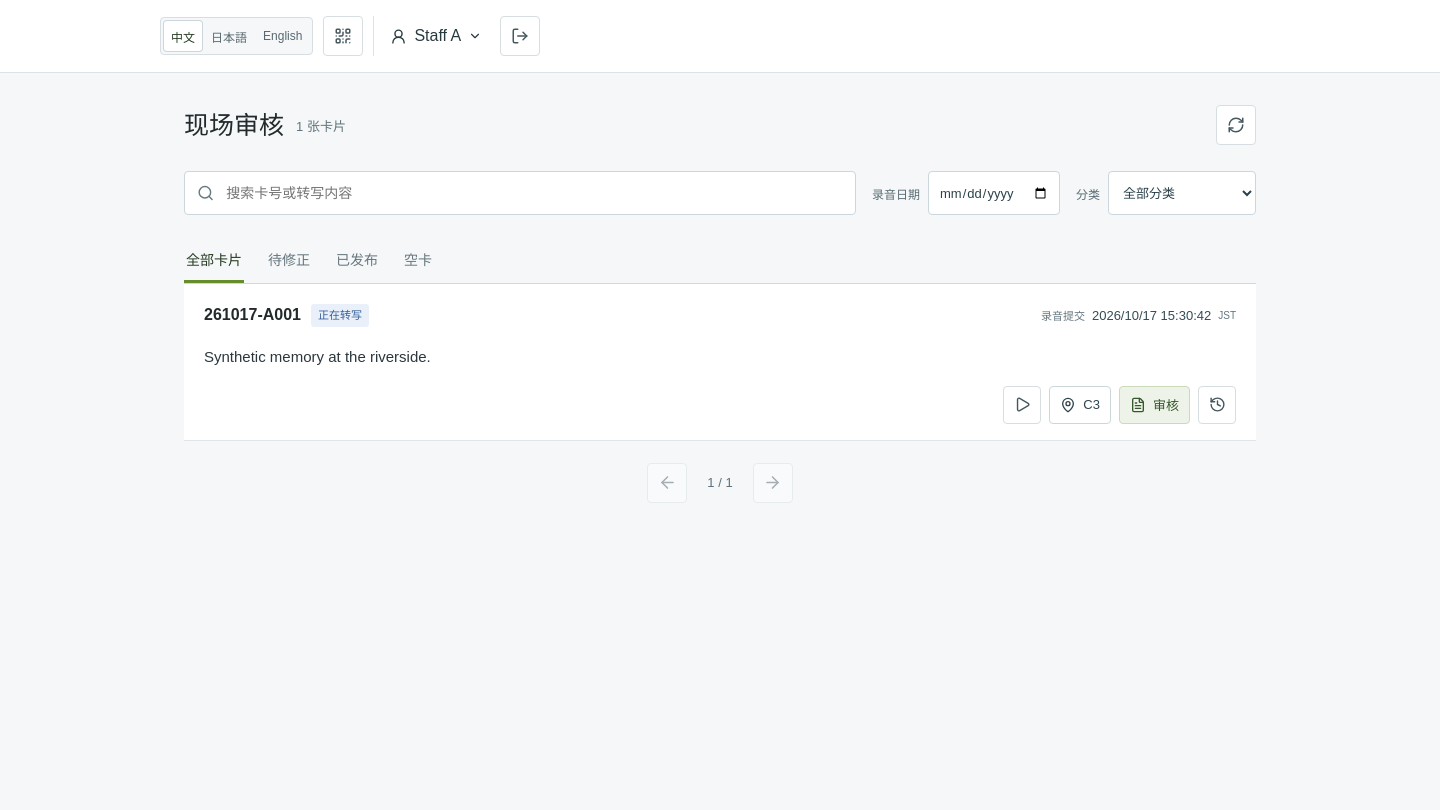
staff website › does not approve or requeue the retained old text while AI is processing
Click the button with aria-label "审核 261017-A001" at x=1154, y=404, box [1119, 386, 1190, 424]
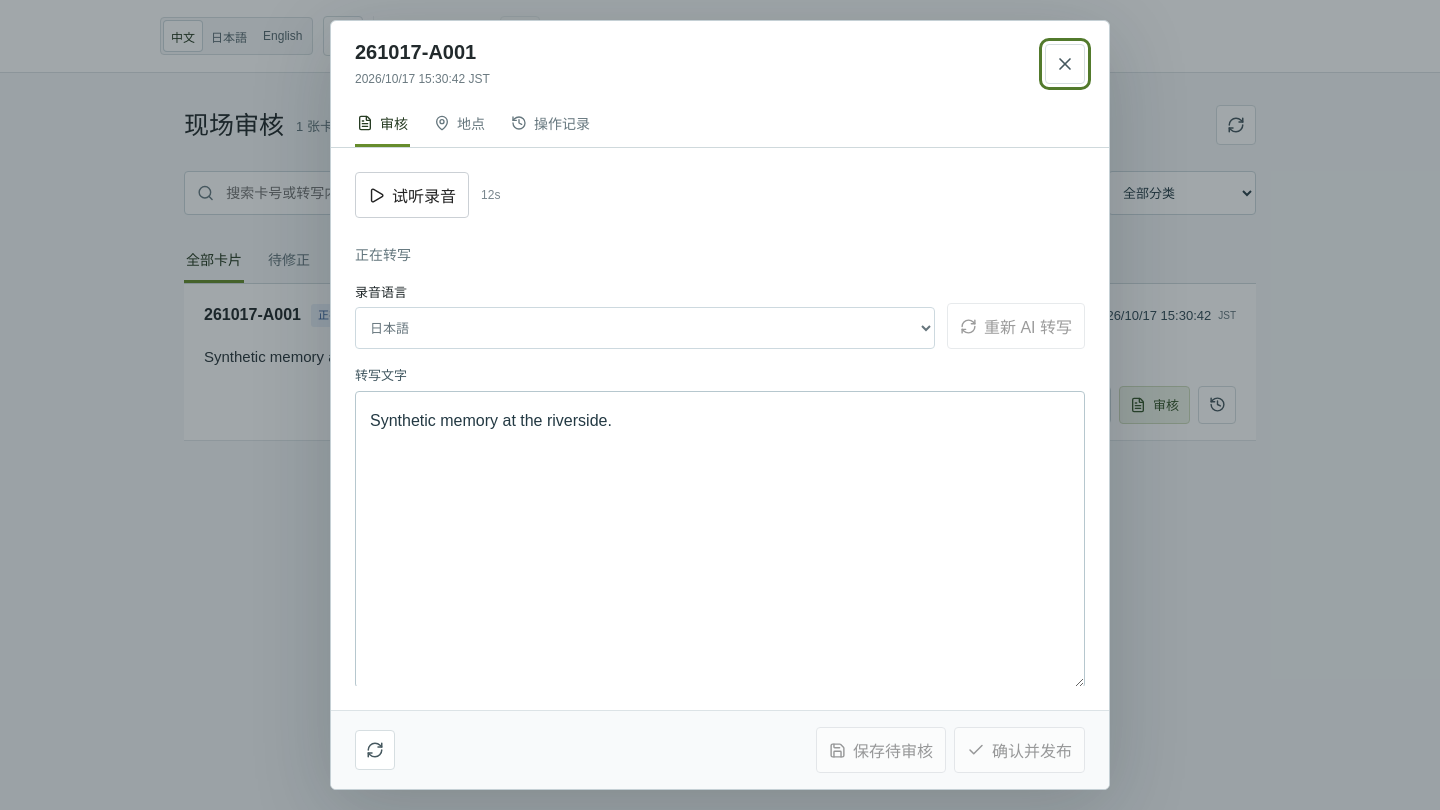
Expected: the text box labelled "转写文字" holds "Synthetic memory at the riverside.", [355, 391, 1085, 686]
Expected: the text box labelled "转写文字" is disabled, [355, 391, 1085, 686]
Expected: the button "确认并发布" is disabled, [954, 727, 1085, 773]
